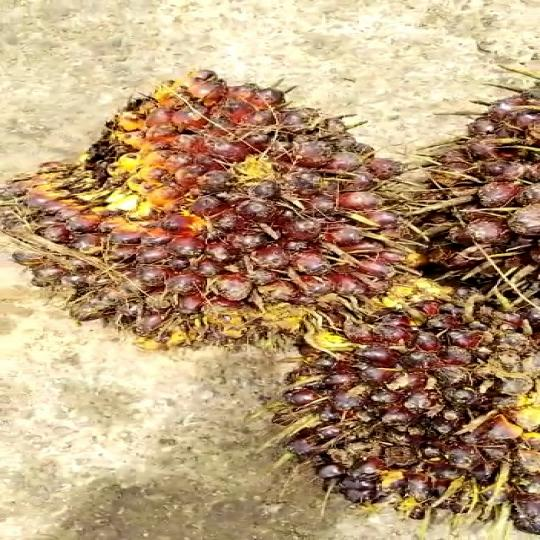kurang masak: (4, 66, 426, 336), (262, 272, 540, 536)
